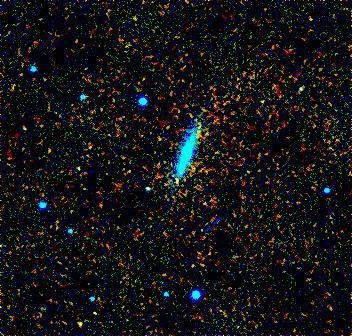star: (157, 167, 187, 197)
